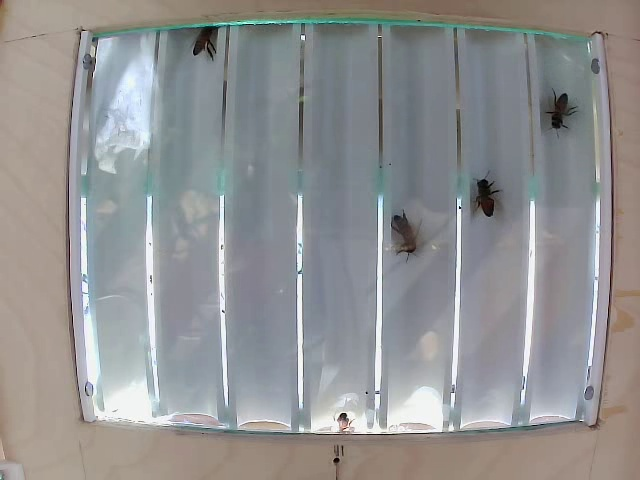bee: (543, 84, 580, 136), (387, 210, 423, 260), (470, 168, 498, 219), (190, 23, 220, 62)
